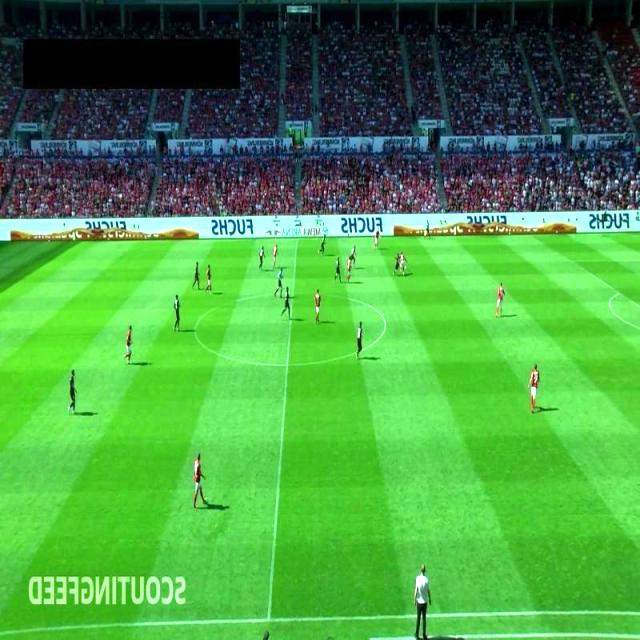bigarea_top_inner: (568, 256, 579, 266)
halfcircle_bottom: (283, 358, 294, 368)
halfcircle_top: (285, 290, 296, 300)
midline_bottom_intersection: (260, 610, 276, 628)
midline_top_intersection: (292, 233, 303, 244)
top_arc_area_intersection: (614, 288, 624, 299)
